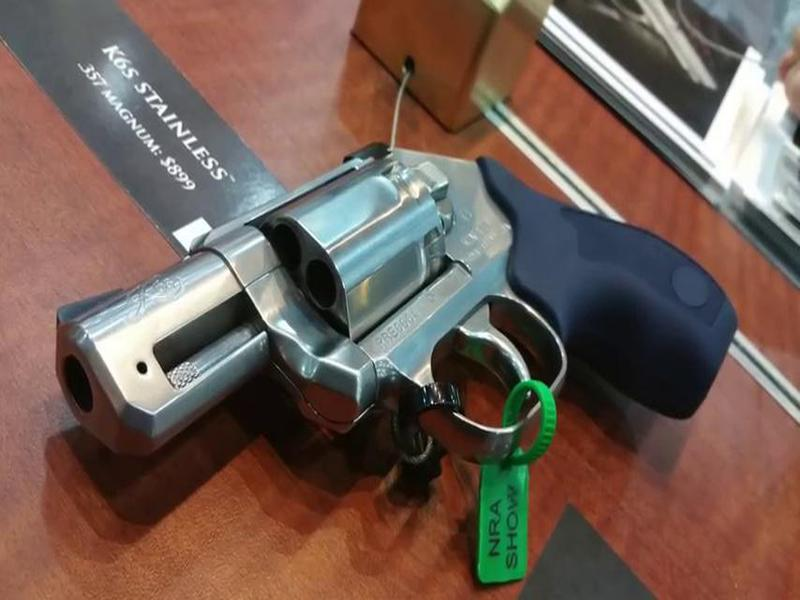Revolver: (48, 137, 732, 484)
